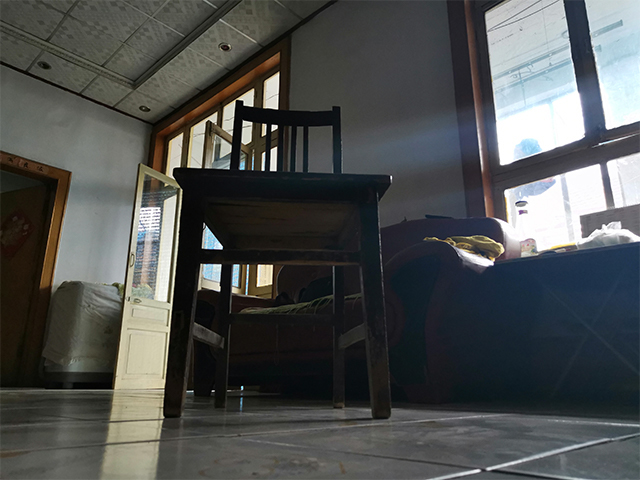sofa: (184, 214, 523, 401)
stool: (161, 99, 396, 421)
table: (494, 240, 640, 400)
